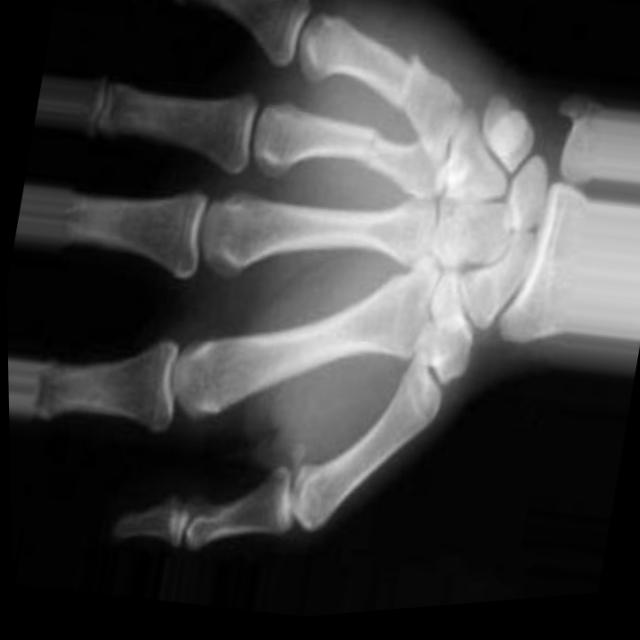fracture: (385, 48, 430, 119), (351, 121, 393, 181)
